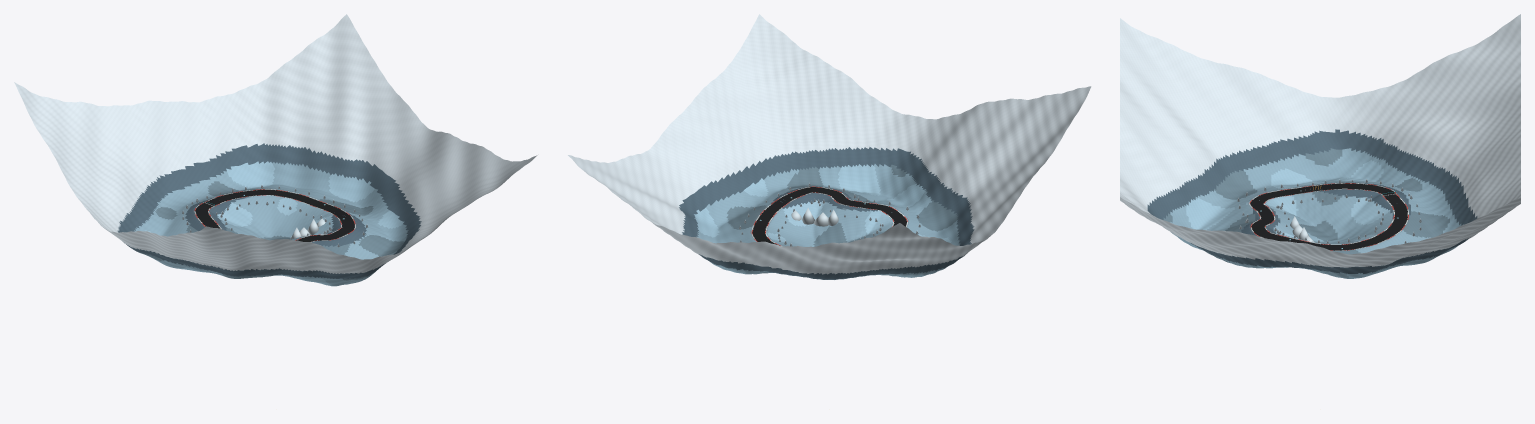
The model's file is frost_harbor.glb.
3 views of the same model, side by side, from view 1: azimuth 30°, elevation 25°; view 2: azimuth 150°, elevation 25°; view 3: azimuth 270°, elevation 25° (orthographic). The views are drawn at different scales.
Parts seen in each view (by area): view 1: frost_harbor - Blender Mountain Course - Combined Blender Ge; view 2: frost_harbor - Blender Mountain Course - Combined Blender Ge; view 3: frost_harbor - Blender Mountain Course - Combined Blender Ge.
Part boxes in pixels (x1=…): frost_harbor - Blender Mountain Course - Combined Blender Ge: x1=14, y1=14, x2=537, y2=286; frost_harbor - Blender Mountain Course - Combined Blender Ge: x1=568, y1=14, x2=1091, y2=279; frost_harbor - Blender Mountain Course - Combined Blender Ge: x1=1120, y1=14, x2=1520, y2=278.
Bounding box in the file's own units: 768 × 658 × 768.
23 materials, 6 textured.
